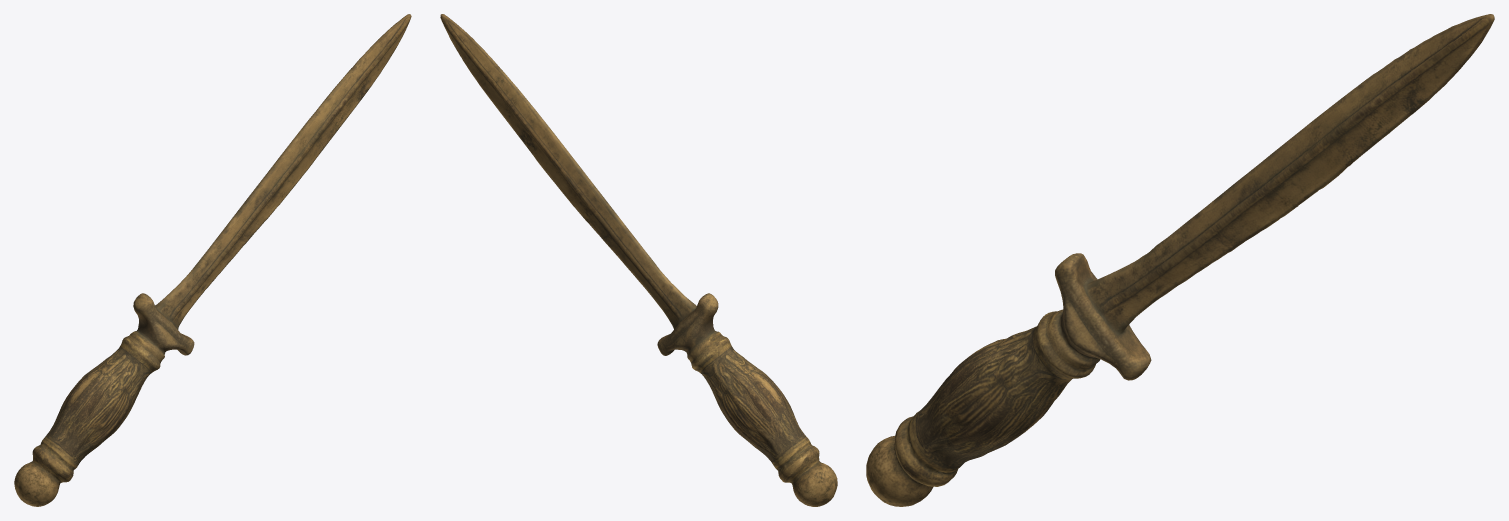
File: letter-opener.glb
The picture shows the model from 3 angles, left to right: view 1: azimuth 30°, elevation 25°; view 2: azimuth 150°, elevation 25°; view 3: azimuth 330°, elevation 25°; orthographic projection. The views are drawn at different scales.
Size of the model in its own units: 1 by 0.9749 by 0.1304.
Materials: 1 (1 with a texture image).
